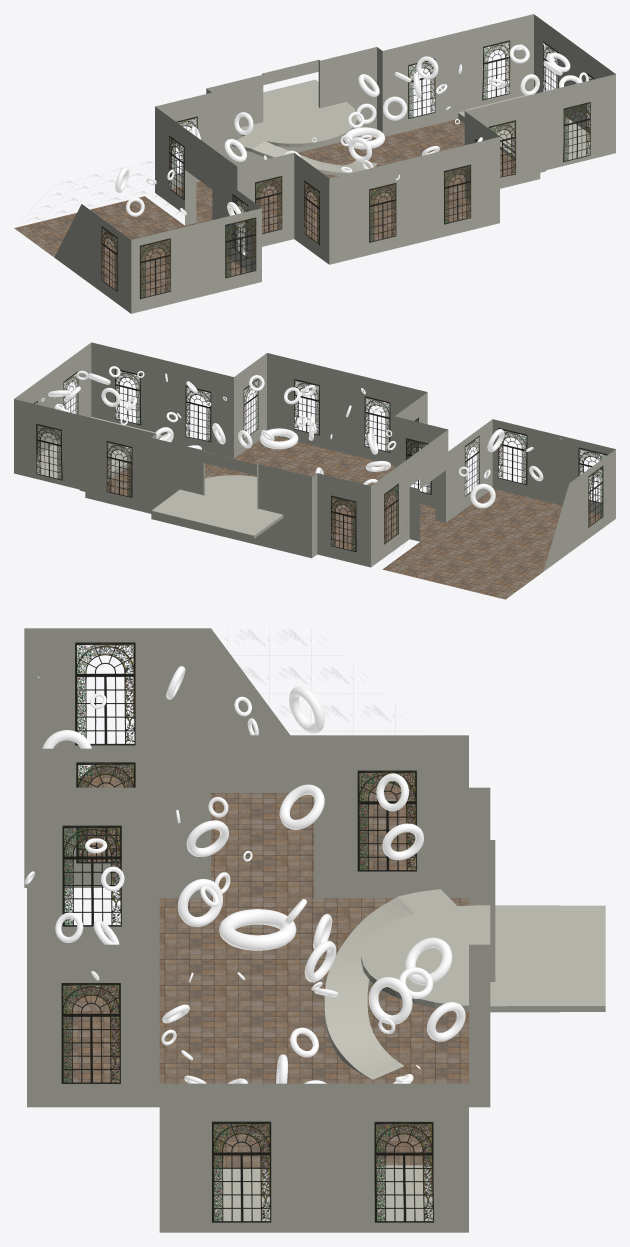
Rendered from venue.glb.
The picture shows the model from 3 angles, top to bottom: view 1: azimuth 30°, elevation 25°; view 2: azimuth 150°, elevation 25°; view 3: azimuth 270°, elevation 25°; orthographic projection. The views are drawn at different scales.
Parts seen in each view (by area): view 1: venue, Torus; view 2: venue, Torus; view 3: venue, Torus, Torus.021, Torus.043, Torus.027, Torus.024, Torus.006, Torus.011, Torus.042, Torus.036, Torus.002.
Part boxes in pixels (left/top/right/bottom): venue: left=14, top=14, right=615, bottom=313; Torus: left=344, top=127, right=385, bottom=149; venue: left=14, top=342, right=615, bottom=599; Torus: left=259, top=428, right=298, bottom=449; venue: left=24, top=628, right=605, bottom=1232; Torus: left=219, top=909, right=296, bottom=950; Torus.021: left=279, top=784, right=324, bottom=829; Torus.043: left=368, top=977, right=412, bottom=1024; Torus.027: left=405, top=937, right=452, bottom=985; Torus.024: left=177, top=879, right=222, bottom=926; Torus.006: left=289, top=686, right=324, bottom=733; Torus.011: left=186, top=820, right=228, bottom=856; Torus.042: left=426, top=1002, right=465, bottom=1041; Torus.036: left=382, top=823, right=423, bottom=860; Torus.002: left=304, top=940, right=336, bottom=982.
Bounding box in the file's own units: 36.61 × 6.02 × 18.78.
5 materials, 3 textured.
